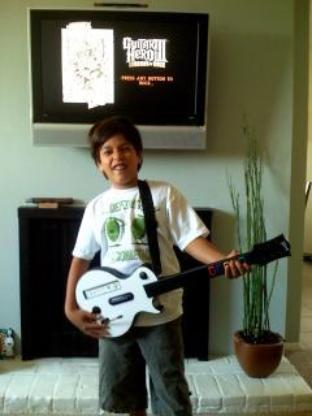person: (57, 105, 239, 416)
